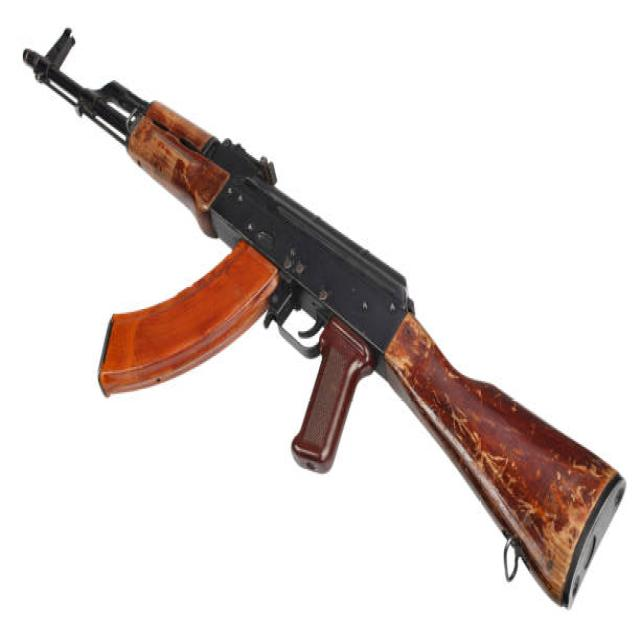rifle: (19, 20, 633, 626)
